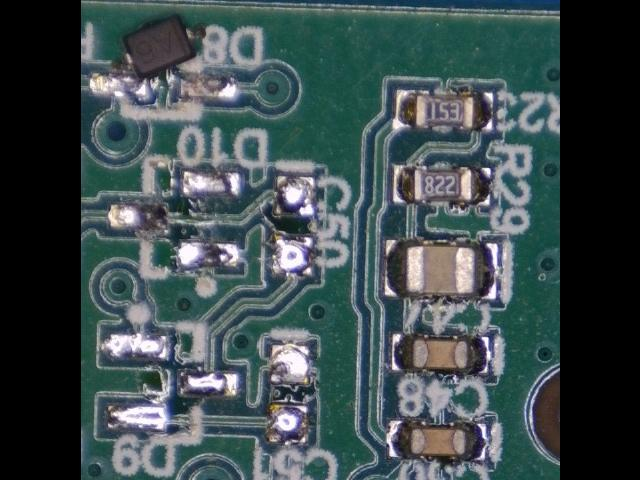Incorrect_installation: (90, 15, 207, 99)
